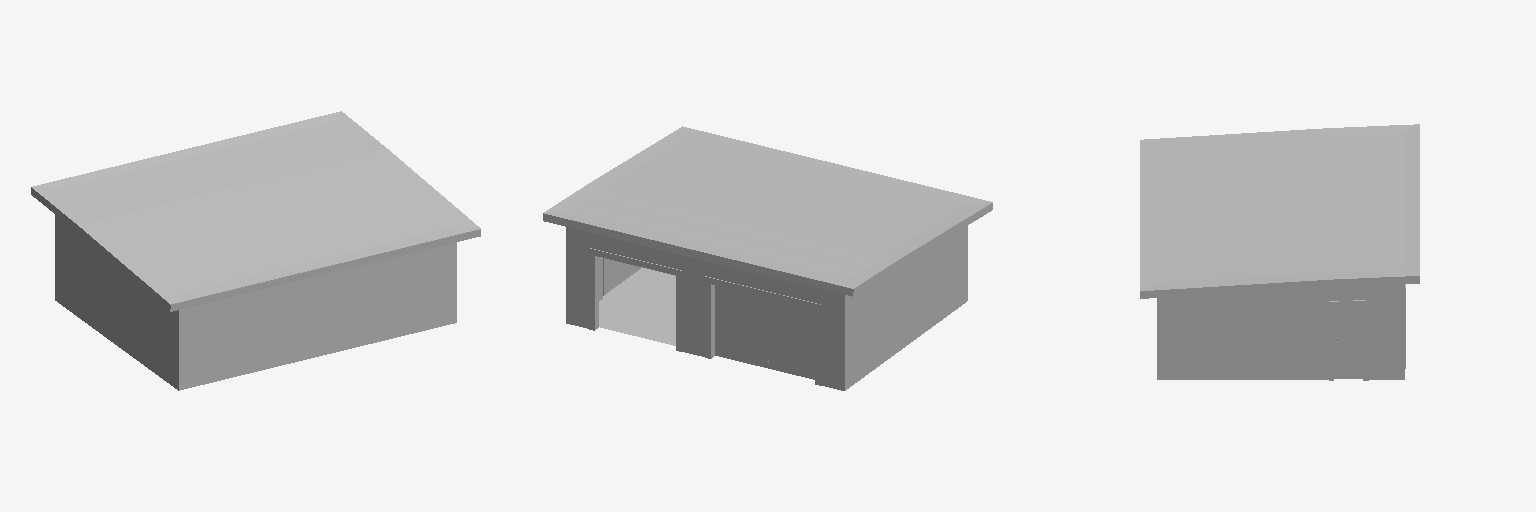
File: double_garage.obj
3 renders of one model, left to right at view 1: azimuth 30°, elevation 25°; view 2: azimuth 150°, elevation 25°; view 3: azimuth 270°, elevation 25°, orthographic.
Parts seen in each view (by area): view 1: Garage_Cube.001; view 2: Garage_Cube.001; view 3: Garage_Cube.001.
Part boxes in pixels (x1,y1,x2,y2): Garage_Cube.001: (31, 111, 480, 390); Garage_Cube.001: (543, 126, 992, 390); Garage_Cube.001: (1140, 124, 1419, 380).
Size of the model in its own units: 8.74 by 3.01 by 6.82.